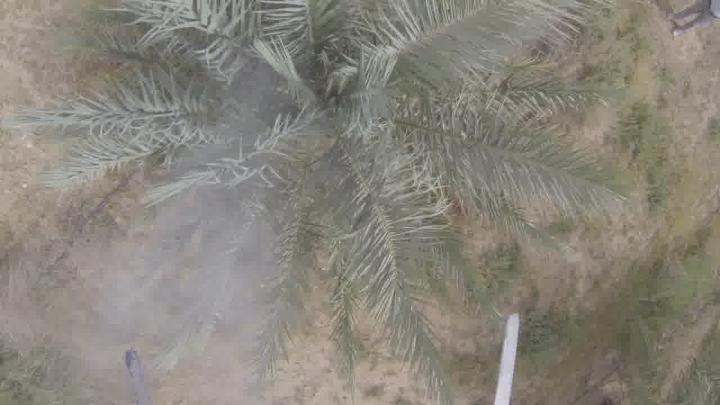Date-Palm-Crown: (184, 0, 480, 256)
